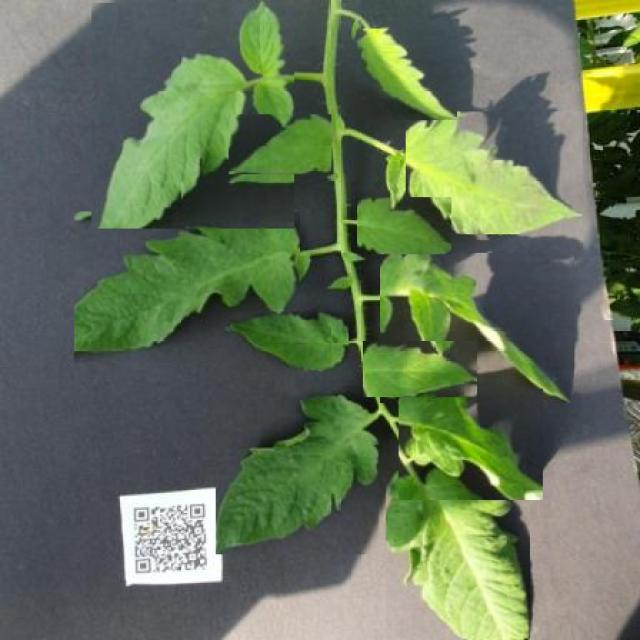Healthy: (92, 2, 294, 229), (74, 212, 300, 362), (380, 253, 574, 403), (215, 393, 378, 554), (386, 462, 530, 639), (406, 112, 583, 235), (398, 389, 543, 500), (356, 29, 457, 120), (230, 312, 349, 372), (363, 340, 478, 397), (229, 114, 332, 175), (357, 198, 452, 255)
